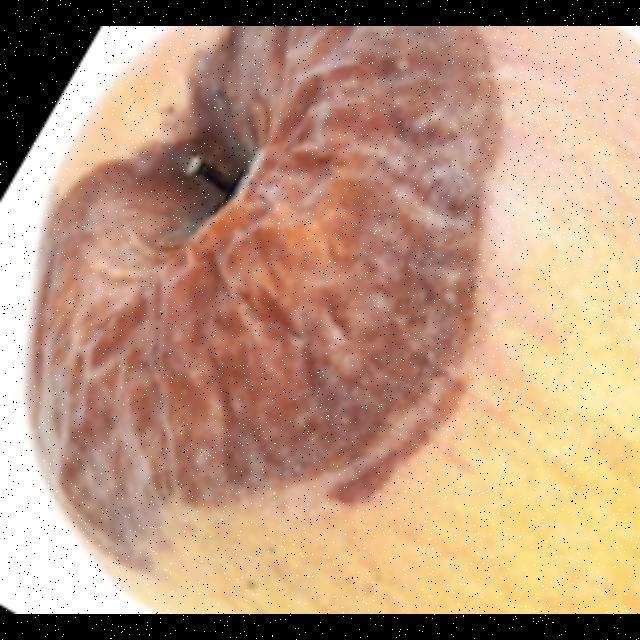Apel Tidak Segar: (6, 26, 640, 614)
